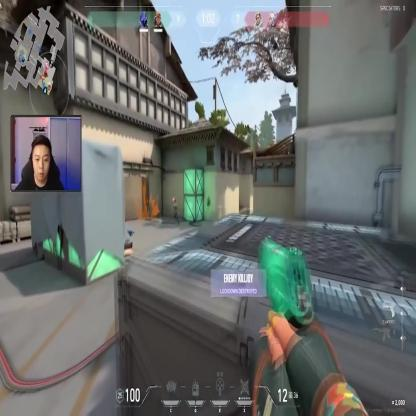enemy: (172, 196, 180, 226)
enemy_head: (172, 197, 176, 202)
